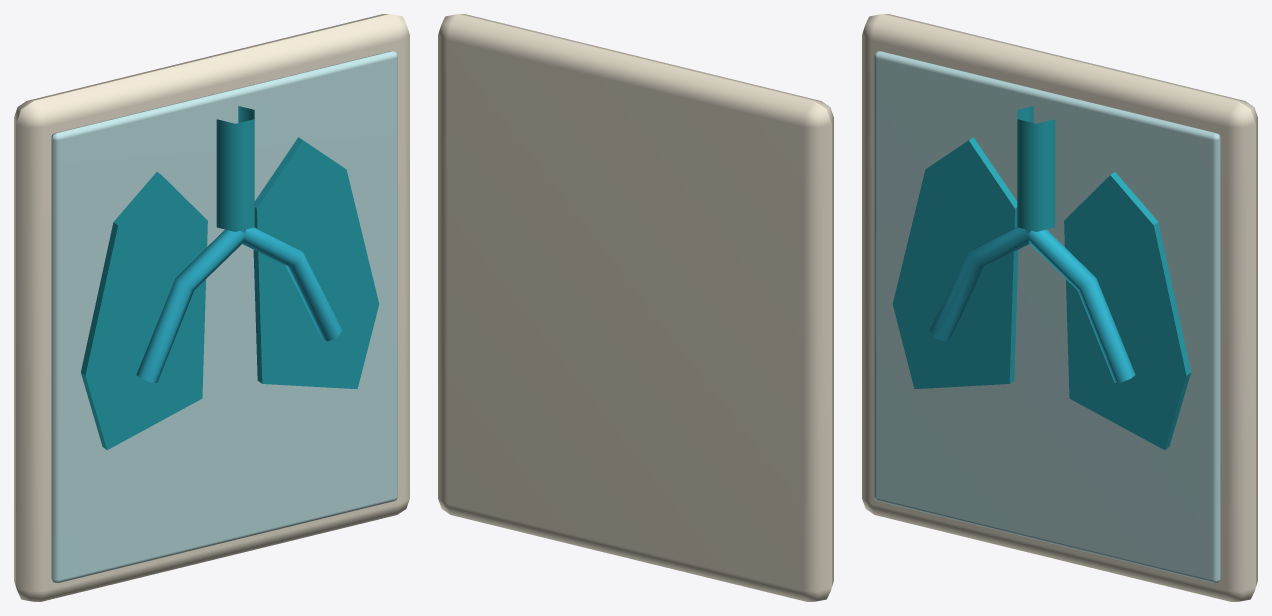
Rendered from Clinical_Art_Lungs.glb.
3 views of the same model, side by side, from view 1: azimuth 30°, elevation 25°; view 2: azimuth 150°, elevation 25°; view 3: azimuth 330°, elevation 25° (orthographic).
Visible parts, largest first — view 1: Clinical_Art_Lungs_pale, Clinical_Art_Lungs_teal, Clinical_Art_Lungs_cream, Clinical_Art_Lungs_blue; view 2: Clinical_Art_Lungs_cream; view 3: Clinical_Art_Lungs_pale, Clinical_Art_Lungs_teal, Clinical_Art_Lungs_cream, Clinical_Art_Lungs_blue.
Boxes of the visible parts, x1=… form: Clinical_Art_Lungs_pale: x1=51, y1=51, x2=397, y2=582; Clinical_Art_Lungs_teal: x1=81, y1=106, x2=379, y2=450; Clinical_Art_Lungs_cream: x1=14, y1=14, x2=409, y2=601; Clinical_Art_Lungs_blue: x1=136, y1=227, x2=342, y2=383; Clinical_Art_Lungs_cream: x1=438, y1=14, x2=833, y2=601; Clinical_Art_Lungs_pale: x1=874, y1=51, x2=1220, y2=582; Clinical_Art_Lungs_teal: x1=892, y1=106, x2=1190, y2=450; Clinical_Art_Lungs_cream: x1=862, y1=14, x2=1257, y2=601; Clinical_Art_Lungs_blue: x1=929, y1=227, x2=1135, y2=383.
Size of the model in its own units: 0.72 by 0.88 by 0.1383.
